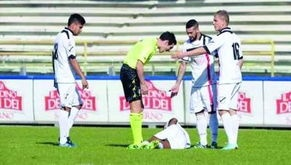falling: (122, 113, 198, 151)
